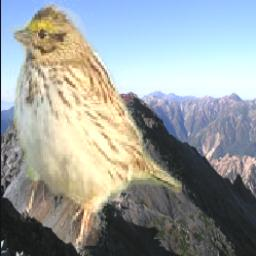Sparrow: (5, 0, 181, 246)
